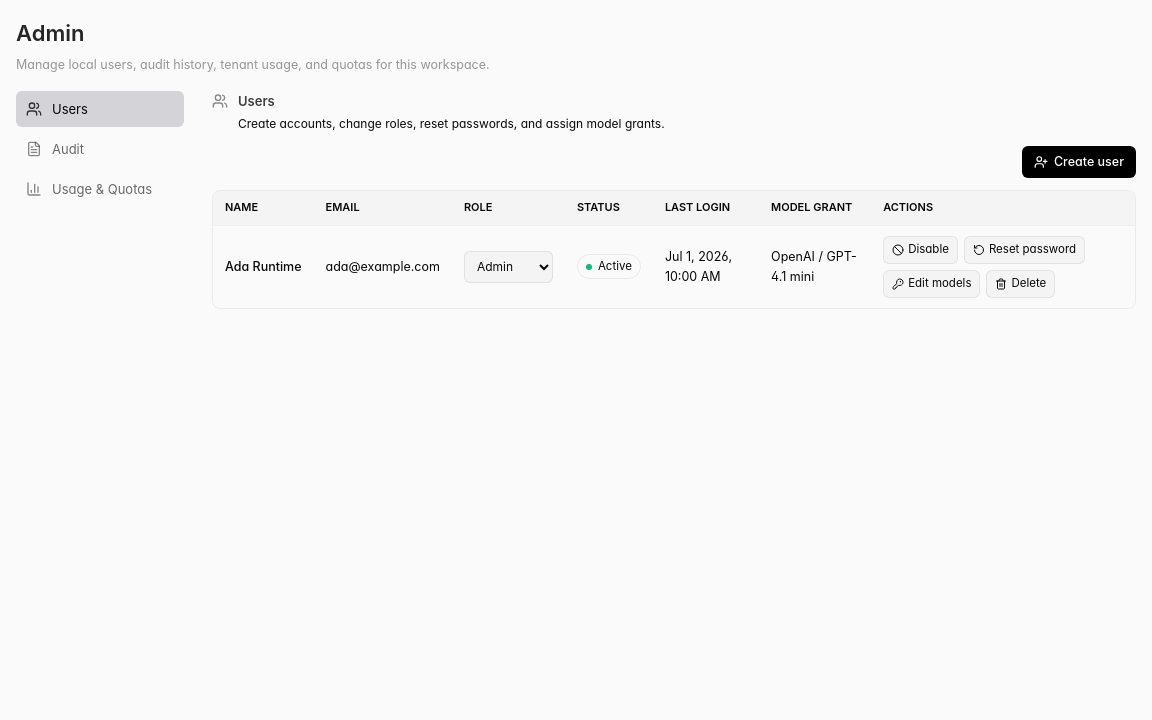
Test case: AdminView › renders the users table and validates the create flow
Expected: the row with test id "admin-user-row-ada@example.com" is shown, [213,225,1135,308]
Expected: the text "Ada Runtime" is shown, [225,257,302,277]
Click the button "Create user" at {"x": 1079, "y": 162}, box [1022,146,1136,178]
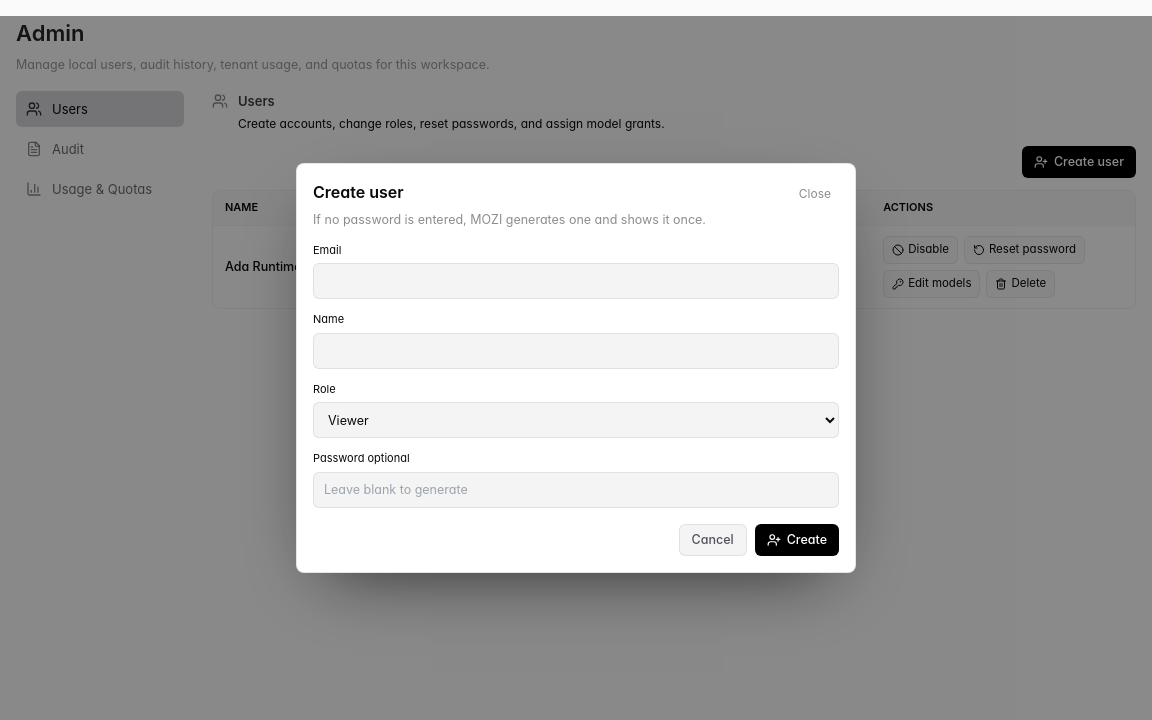
Click the button "Create" at {"x": 797, "y": 540}, box [755,524,839,556]
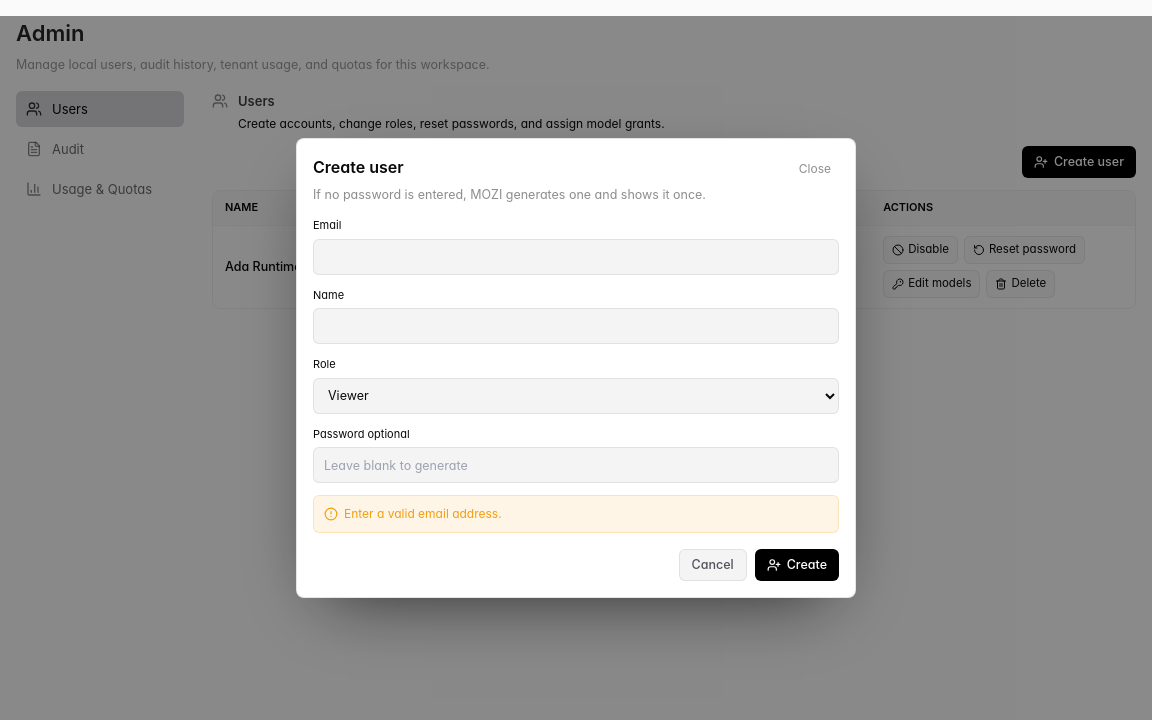
Result: the text "Enter a valid email address." is shown at [313,495,839,533]
Type "new@example.com" into the field labelled "Email" at {"x": 576, "y": 257}, box [313,239,839,275]
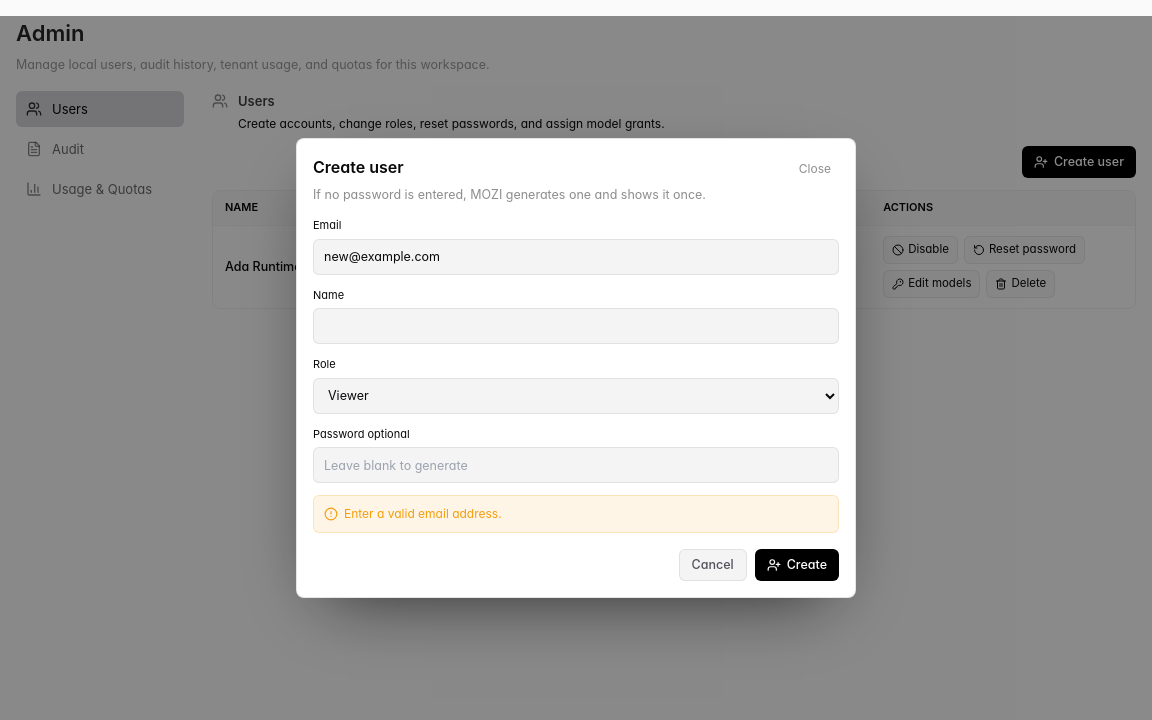
Type "New User" into the field labelled "Name" at {"x": 576, "y": 326}, box [313,308,839,344]
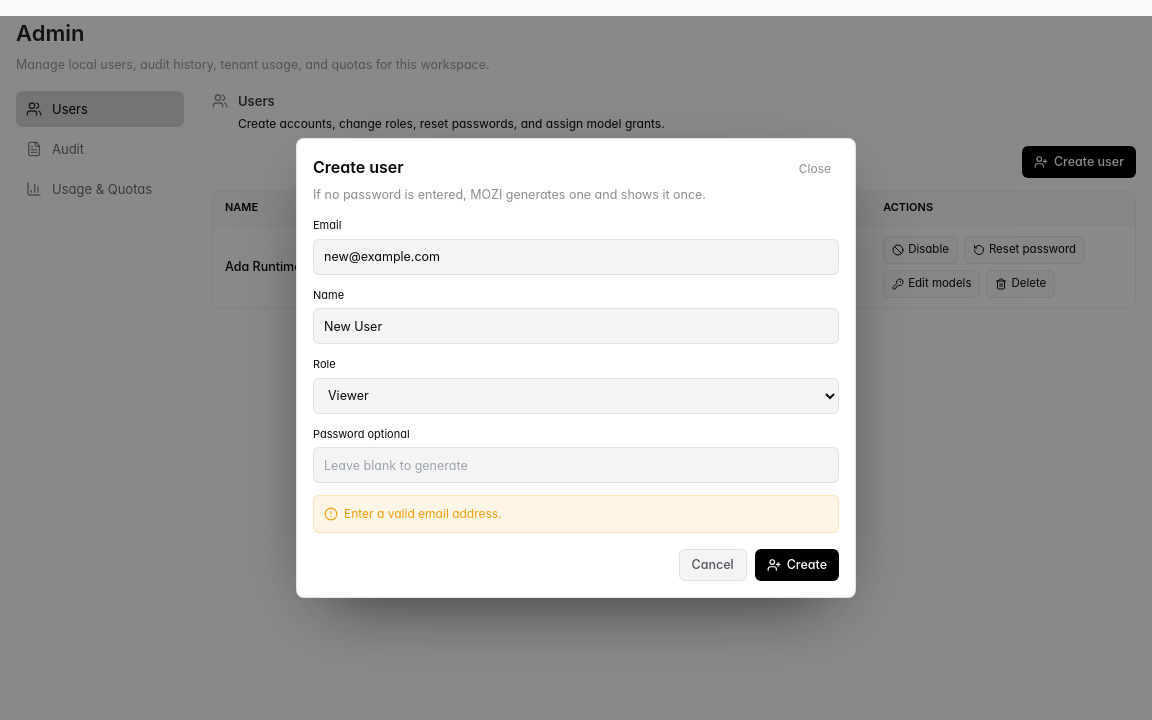
Select "Viewer" in the dropdown labelled "Role" at {"x": 576, "y": 396}, box [313,378,839,414]
Click the button "Create" at {"x": 797, "y": 565}, box [755,549,839,581]
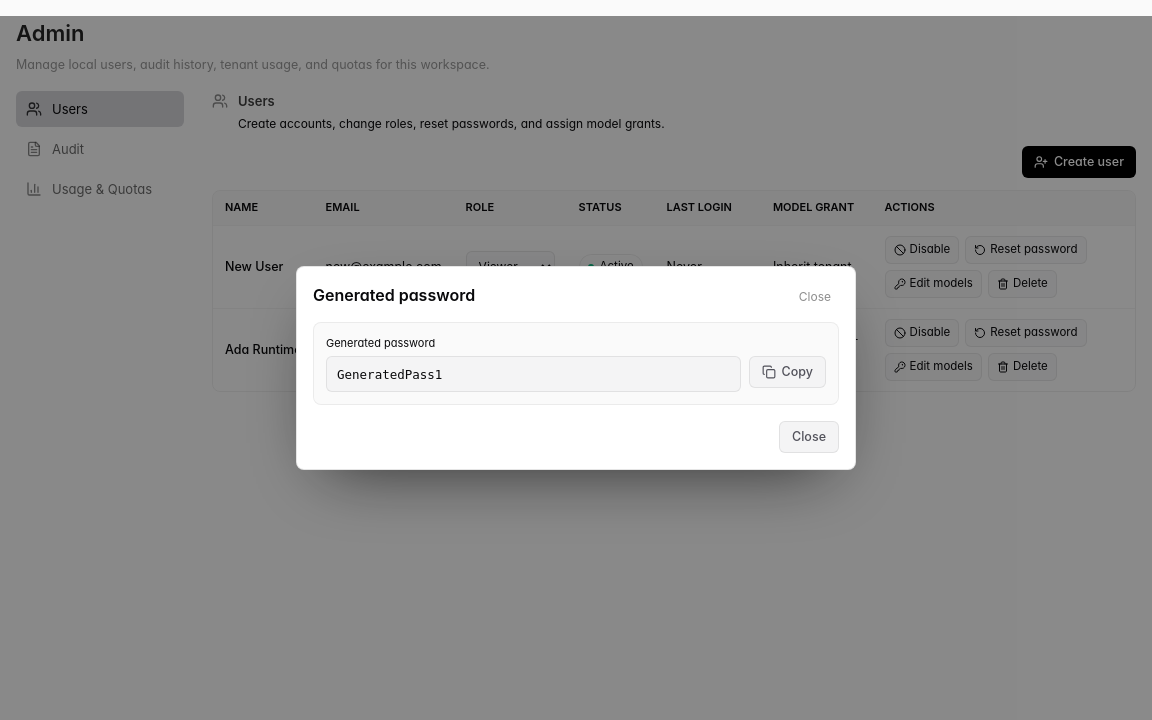
Result: the field showing "GeneratedPass1" is shown at [326,356,741,392]
